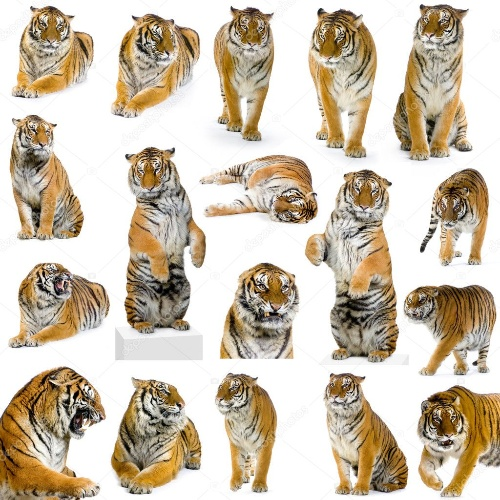tiger: (16, 369, 378, 500), (429, 165, 498, 475), (108, 144, 213, 342), (327, 169, 416, 372), (306, 2, 392, 166), (10, 114, 102, 257), (107, 5, 213, 126), (405, 1, 483, 156), (219, 4, 292, 129), (5, 264, 110, 343), (1, 10, 82, 101), (236, 157, 318, 231)
